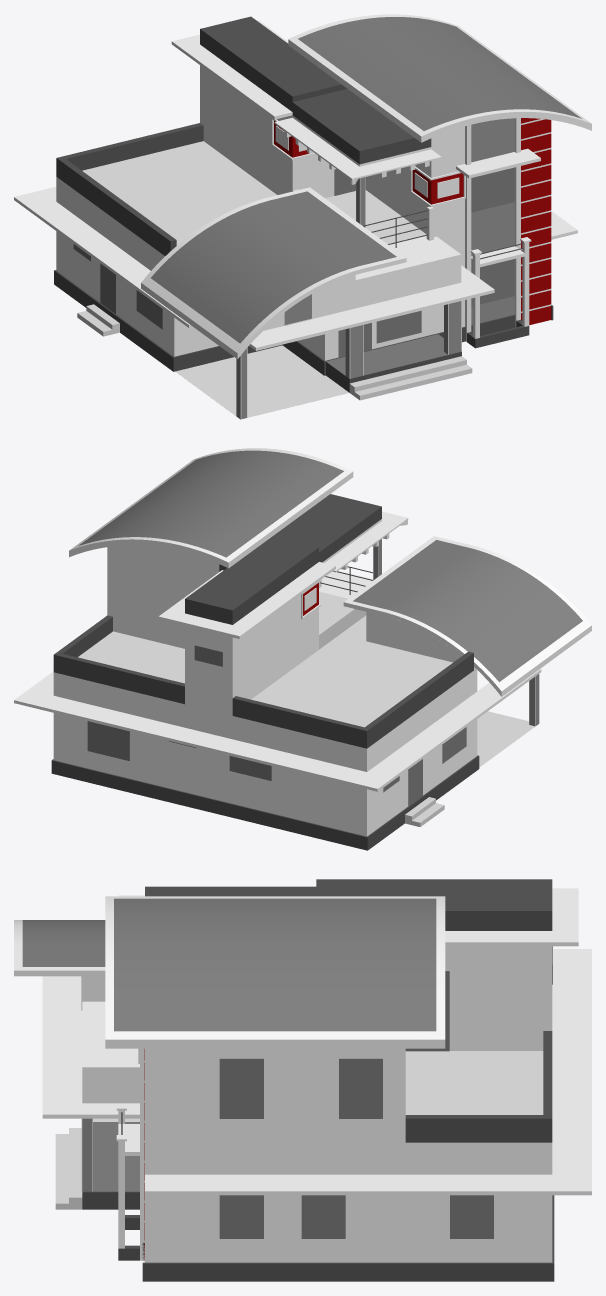
The model's file is salehouse1.FBX.
The picture shows the model from 3 angles, top to bottom: view 1: azimuth 30°, elevation 25°; view 2: azimuth 150°, elevation 25°; view 3: azimuth 270°, elevation 25°; orthographic projection. The views are drawn at different scales.
Visible parts, largest first — view 1: Object01, Object02, Object06, Object54, Object03, Object93, Object88, Object78, Object87, Object14, Object76, Object38 (+30 smaller); view 2: Object03, Object06, Object01, Object02, Object54, Object43, Object97, Object88, Object78, Object76, Object38, Object87 (+12 smaller); view 3: Object02, Object03, Object06, Object43, Object38, Object54, Object40, Object88, Object72, Object95, Object01, Object90 (+20 smaller).
Part boxes in pixels (x1,y1,x2,y2): Object01: (151, 191, 396, 343); Object02: (298, 17, 581, 130); Object06: (200, 65, 464, 238); Object54: (82, 141, 426, 245); Object03: (56, 177, 464, 360); Object93: (175, 345, 348, 417); Object88: (200, 16, 347, 111); Object78: (56, 123, 203, 255); Object87: (292, 89, 431, 164); Object14: (521, 119, 551, 325); Object76: (141, 187, 406, 359); Object38: (288, 14, 591, 142); Object03: (53, 669, 477, 836); Object06: (107, 545, 318, 715); Object01: (353, 540, 582, 682); Object02: (79, 450, 343, 557); Object54: (78, 591, 452, 727); Object43: (14, 669, 541, 791); Object97: (53, 755, 479, 850); Object88: (185, 536, 318, 624); Object78: (232, 651, 473, 748); Object76: (343, 536, 591, 696); Object38: (69, 448, 353, 568); Object87: (273, 494, 381, 562); Object02: (114, 898, 436, 1031); Object03: (145, 1142, 552, 1262); Object06: (145, 946, 552, 1142); Object43: (145, 949, 591, 1195); Object38: (105, 896, 445, 1048); Object54: (405, 1051, 543, 1114); Object40: (142, 1262, 554, 1281); Object88: (316, 879, 552, 930); Object72: (42, 976, 82, 1103); Object95: (405, 1115, 552, 1142); Object01: (22, 920, 105, 966); Object90: (445, 888, 578, 946).
Bounding box in the file's own units: 262 × 151 × 262.
